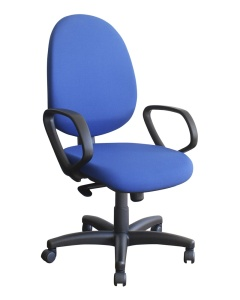chair: (41, 14, 199, 287)
